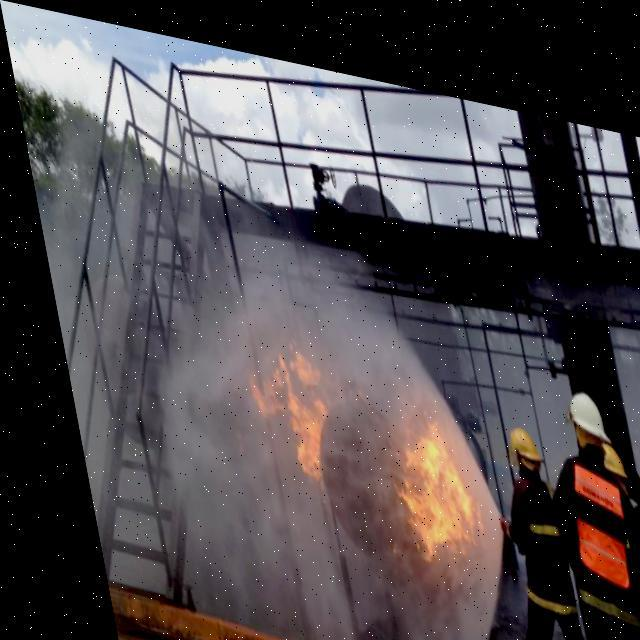Fire: (223, 312, 341, 488), (366, 388, 476, 571)
